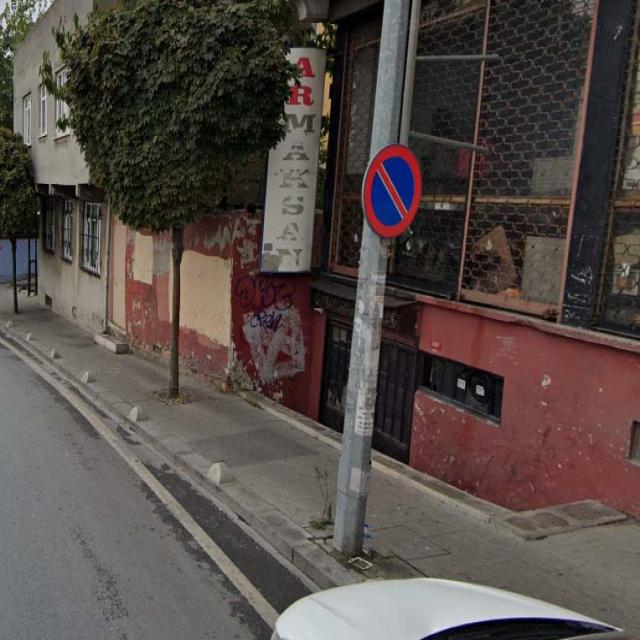parkyasak: (366, 146, 422, 237)
